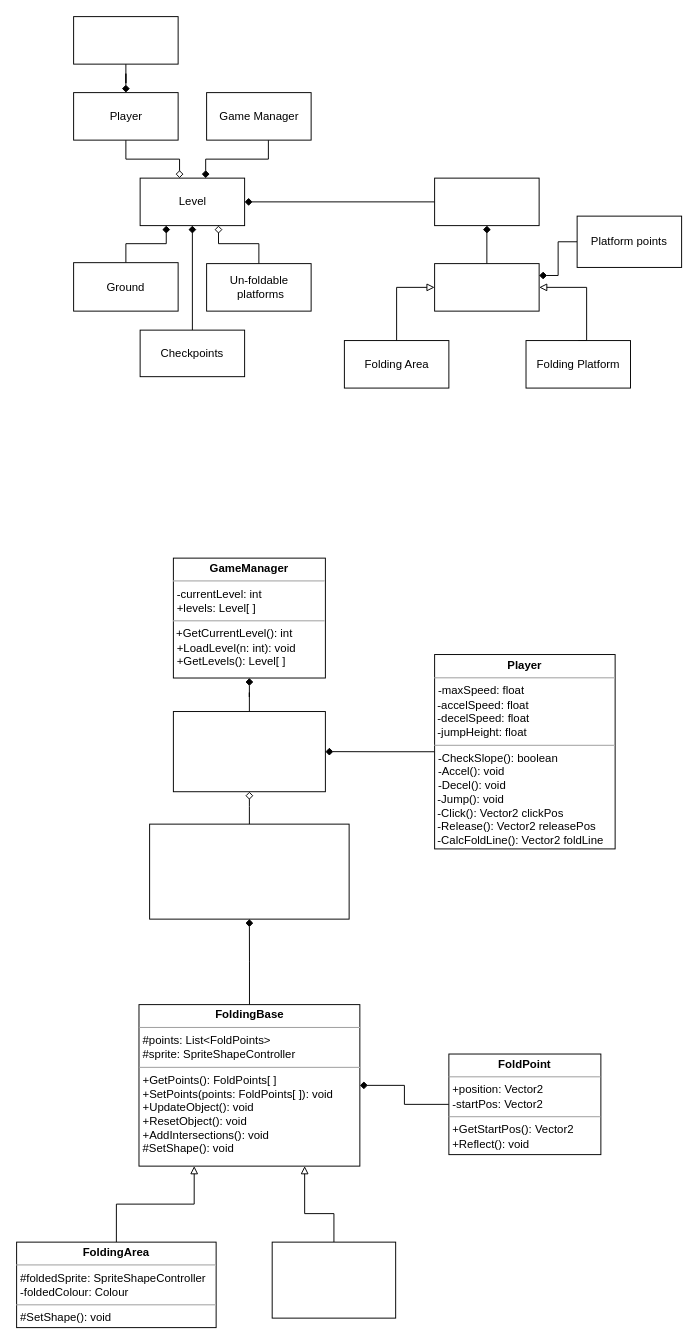
The diagram is 698 pixels wide and 1344 high, and some of its shapes have lost their labels. The box of each missing label's shape, as (x1, y1, x2, y2) in pixels:
Folding Base: (434, 263, 539, 311)
FoldingPlatform -collider: EdgeCollider -SetCollider(): void: (271, 1241, 396, 1318)
Level +selectedPaper: Paper: (172, 711, 325, 792)
Paper: (434, 177, 539, 226)
Paper -platforms: Platform[ ] -isFolded: boolean +Fold(foldLine: Vector2): void: (149, 823, 349, 919)
Sprite: (73, 16, 178, 64)
